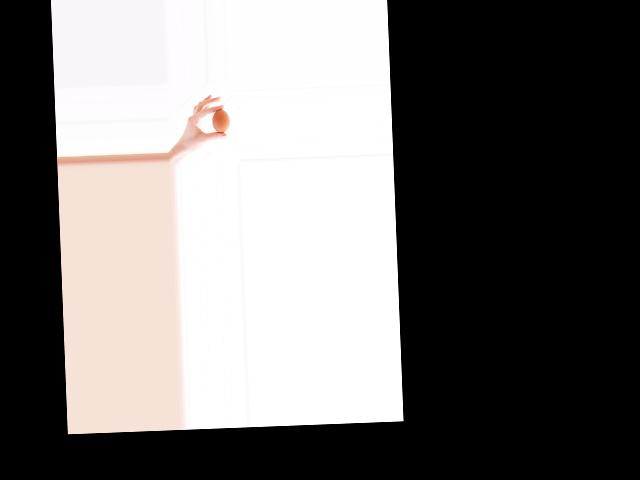egg: (212, 108, 230, 133)
